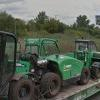Tractor: (15, 28, 100, 100)
